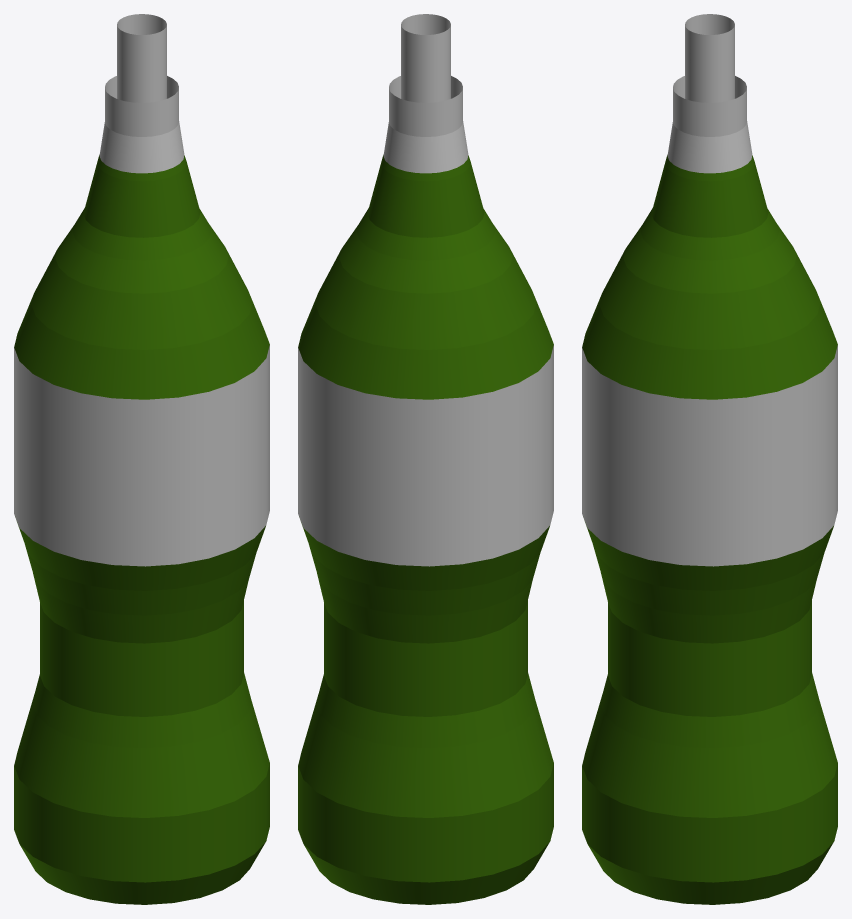
The picture shows the model from 3 angles, left to right: view 1: azimuth 30°, elevation 25°; view 2: azimuth 150°, elevation 25°; view 3: azimuth 270°, elevation 25°; orthographic projection.
Parts seen in each view (by area): view 1: mesh1_mesh1-geometry, mesh15_mesh15-geometry; view 2: mesh1_mesh1-geometry, mesh15_mesh15-geometry; view 3: mesh1_mesh1-geometry, mesh15_mesh15-geometry.
Boxes of the visible parts, box(x1,y1,x2,y2) form: mesh1_mesh1-geometry: box(14, 155, 269, 904); mesh15_mesh15-geometry: box(99, 14, 184, 173); mesh1_mesh1-geometry: box(298, 155, 553, 904); mesh15_mesh15-geometry: box(383, 14, 468, 173); mesh1_mesh1-geometry: box(582, 155, 837, 904); mesh15_mesh15-geometry: box(667, 14, 752, 173).
Bounding box in the file's own units: 0.2588 × 0.9306 × 0.2588.
